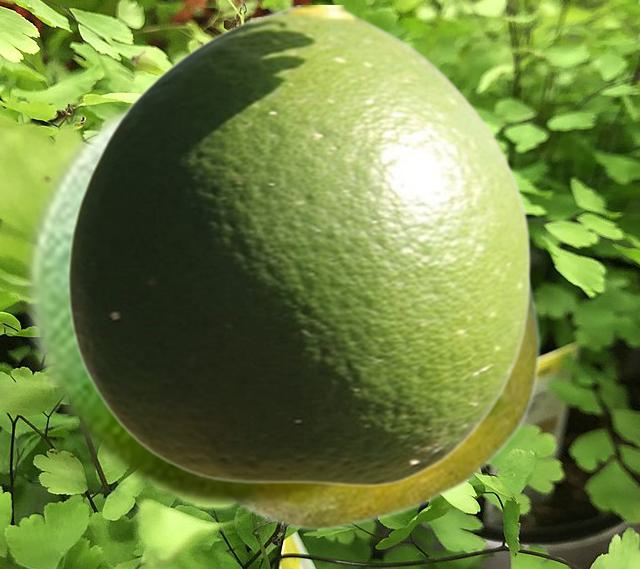dalandan: (66, 5, 531, 486), (18, 73, 519, 511), (241, 271, 541, 530)
